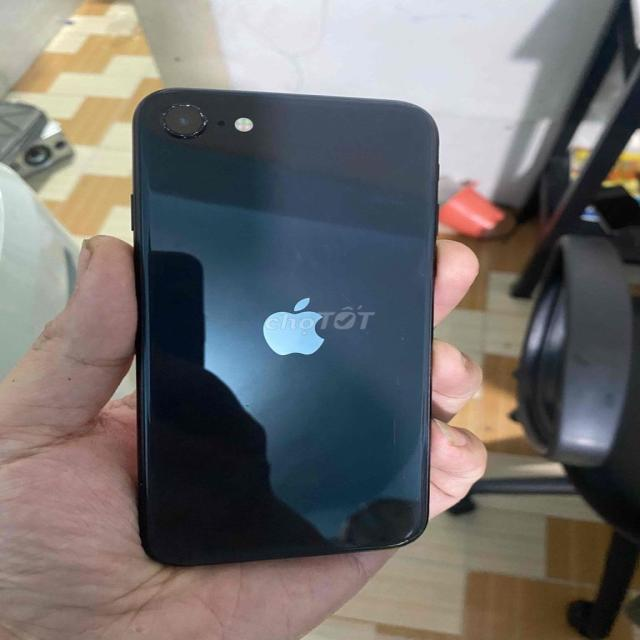gen_7_8: (127, 78, 440, 564)
